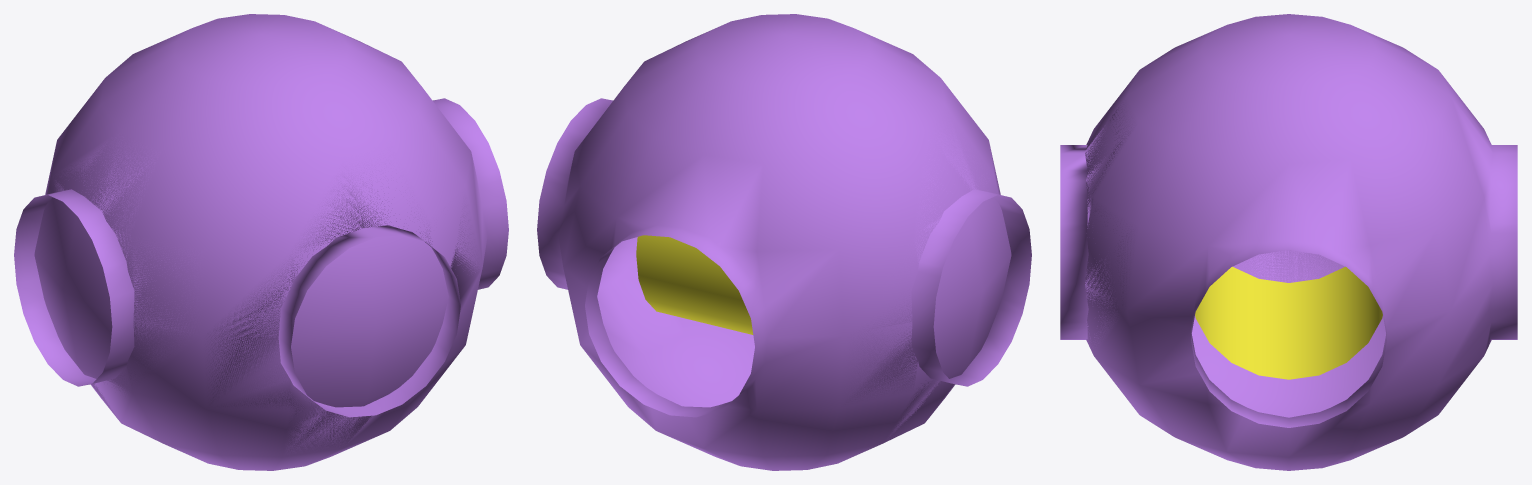
File: PipesAndJoints.001.glb
3 views of the same model, side by side, from view 1: azimuth 30°, elevation 25°; view 2: azimuth 150°, elevation 25°; view 3: azimuth 270°, elevation 25° (orthographic).
Parts seen in each view (by area): view 1: Sphere.002, Sphere.003, Sphere.004; view 2: Sphere.002, Sphere.004, Pipe.001; view 3: Sphere.002, Pipe.001, Sphere.003, Sphere.004.
Boxes of the visible parts, <box> form: Sphere.002: <box>34,14,508,470</box>; Sphere.003: <box>202,137,482,456</box>; Sphere.004: <box>14,105,206,442</box>; Sphere.002: <box>537,14,1011,470</box>; Sphere.004: <box>839,106,1031,442</box>; Pipe.001: <box>636,235,753,334</box>; Sphere.002: <box>1085,14,1517,470</box>; Pipe.001: <box>1195,266,1382,379</box>; Sphere.003: <box>1060,71,1139,384</box>; Sphere.004: <box>1235,250,1344,282</box>.
Size of the model in its own units: 4 by 4 by 4.
1 material, 1 textured.
